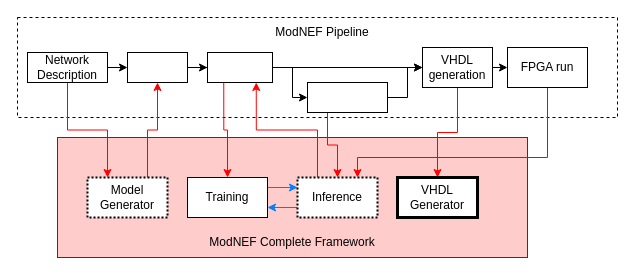
Some shapes in this 635 by 275 pixel diagram are drawn without their labels. The centre of each missing label's shape, as x and y in pixels:
"Model" belongs at point 157,67.
"Parameters Calculation" belongs at point 347,97.
"Train" belongs at point 239,67.
